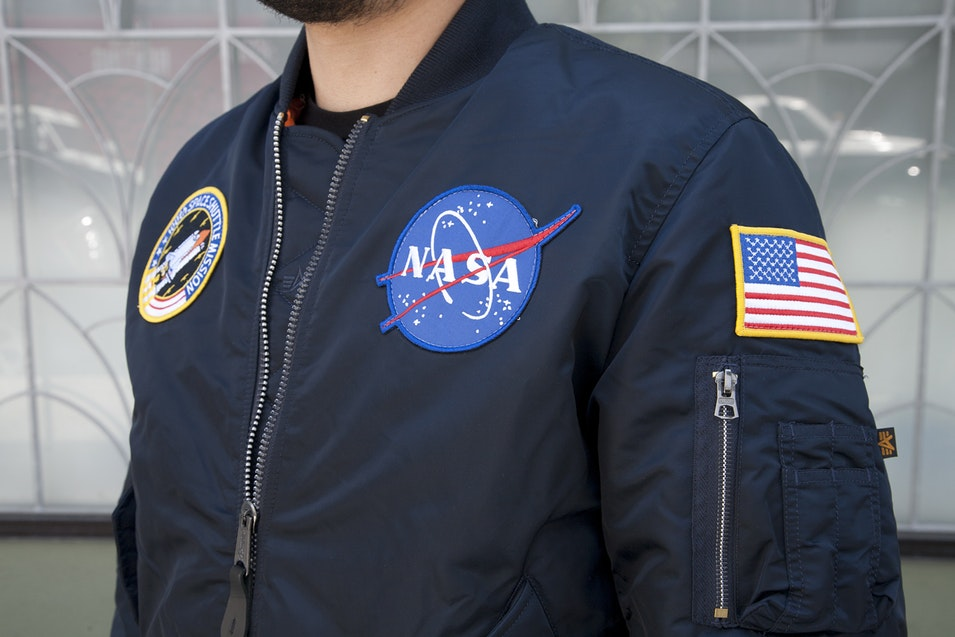NASA: (375, 184, 581, 354)
